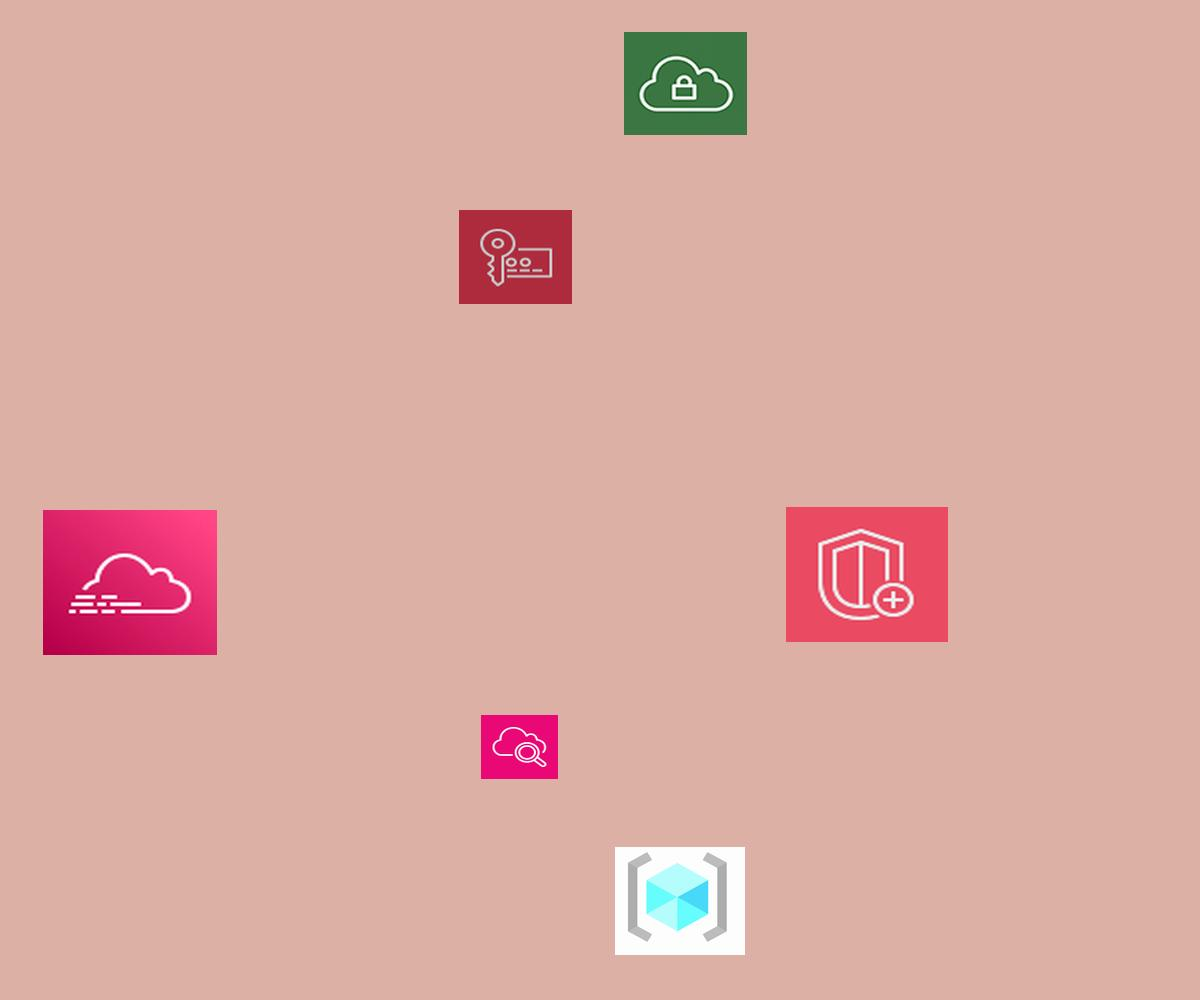AWS-CloudTrail: (43, 510, 217, 655)
AWS-CloudWatch: (481, 715, 558, 779)
AWS-Key-Management-Service: (459, 210, 572, 304)
AWS-Private_vpc: (624, 32, 747, 135)
AWS-Shield: (786, 507, 948, 642)
Azure_resource_group: (615, 847, 745, 955)
